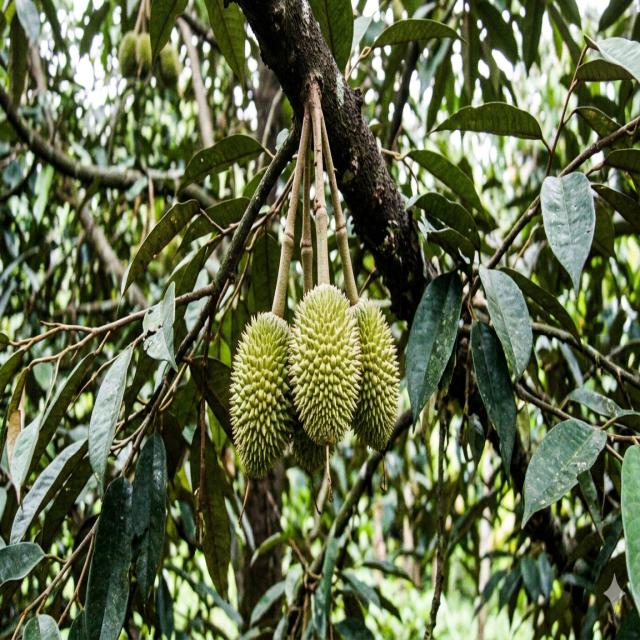immature: (288, 280, 364, 450), (228, 308, 296, 479), (348, 297, 401, 452)
